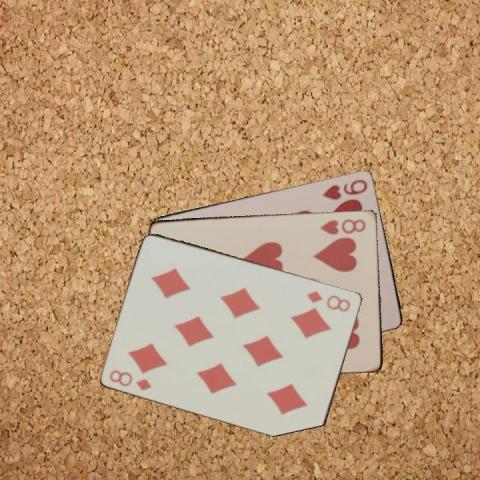8d: (304, 288, 352, 314), (107, 366, 153, 392)
8h: (317, 216, 368, 236)
9h: (319, 176, 370, 201)
